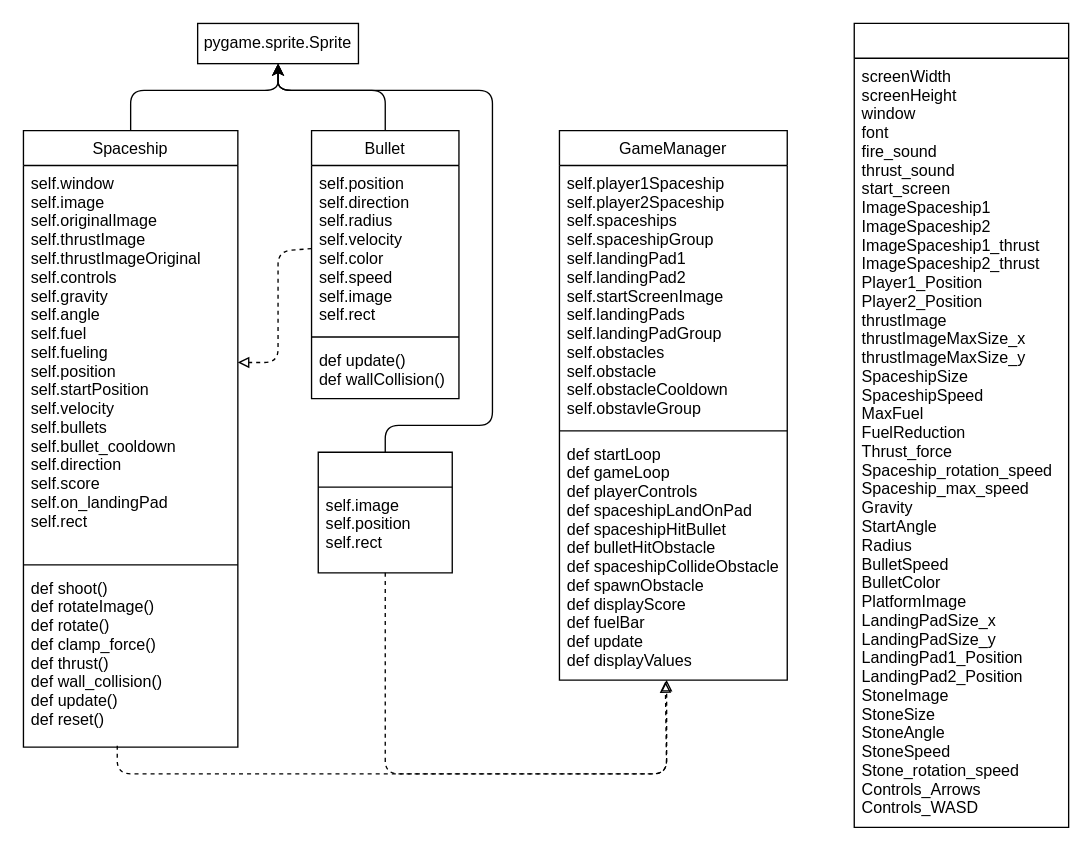
Some shapes in this 1092 by 855 pixel diagram are drawn without their labels. Here are the shapes that lost their labels. From the top down, the box of each, then its label:
(853, 22, 1069, 827): Config
(317, 451, 452, 573): LandingPad
